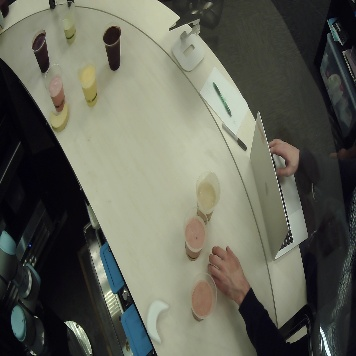full_cup: (195, 167, 222, 225), (180, 205, 207, 263), (189, 268, 216, 326), (78, 58, 100, 108), (46, 62, 68, 112), (29, 25, 51, 75), (101, 21, 123, 71), (56, 1, 78, 49)
puck: (144, 294, 172, 347), (48, 103, 71, 133)
